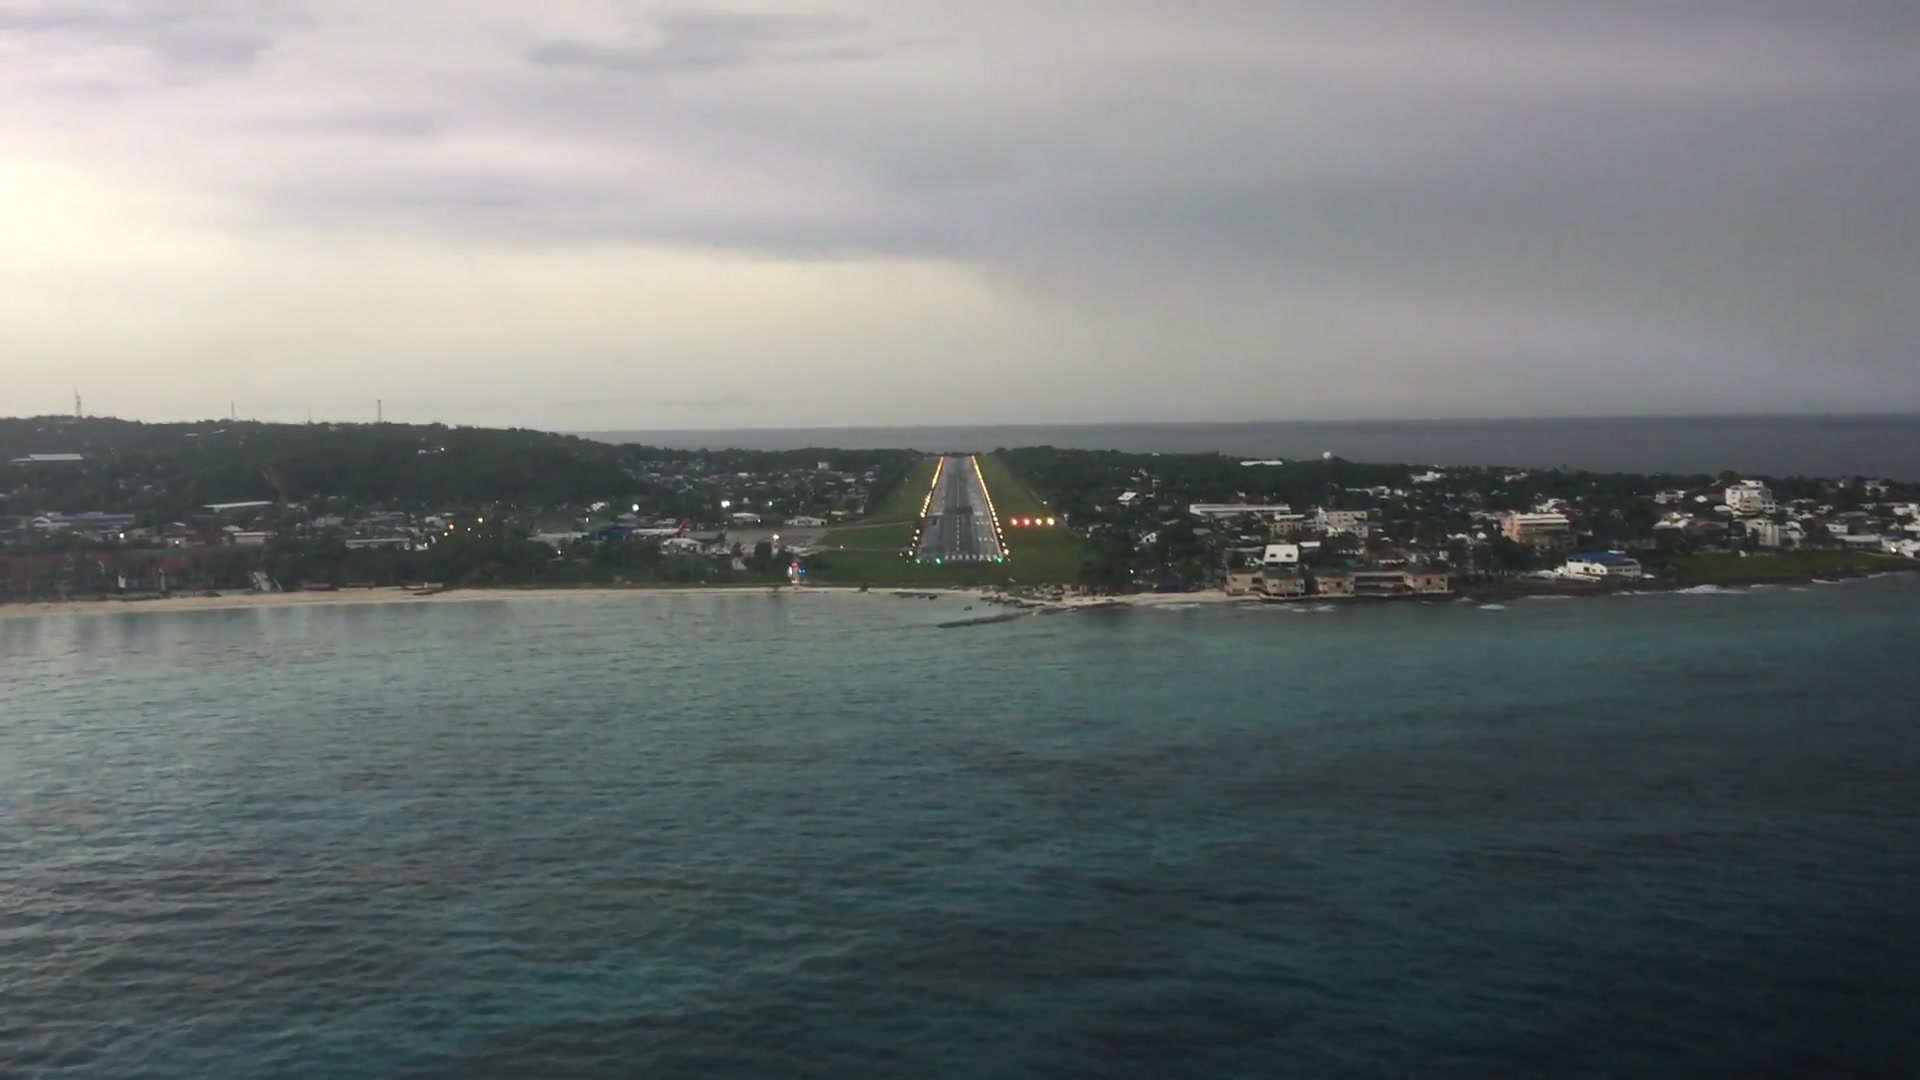entrance: (919, 553, 1000, 562)
runway: (910, 454, 1007, 567)
